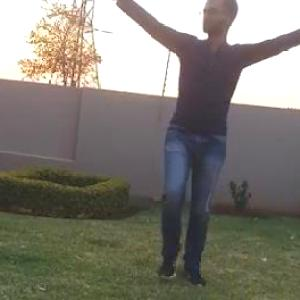takeoff: (109, 0, 299, 280)
